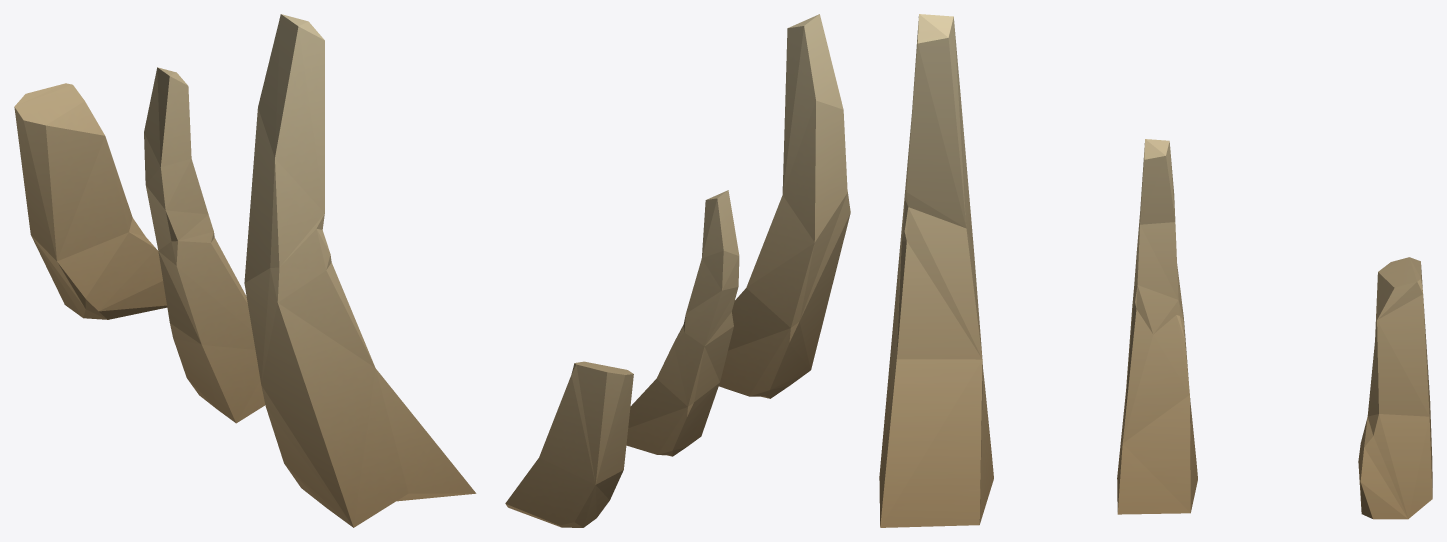
File: bone.FBX
The picture shows the model from 3 angles, left to right: view 1: azimuth 30°, elevation 25°; view 2: azimuth 150°, elevation 25°; view 3: azimuth 270°, elevation 25°; orthographic projection. The views are drawn at different scales.
Parts seen in each view (by area): view 1: bone; view 2: bone; view 3: bone.
Part boxes in pixels (bbox=[...]): bone: bbox=[14, 14, 476, 527]; bone: bbox=[505, 14, 850, 527]; bone: bbox=[879, 14, 1432, 527].
Size of the model in its own units: 25.46 by 62.25 by 69.65.
